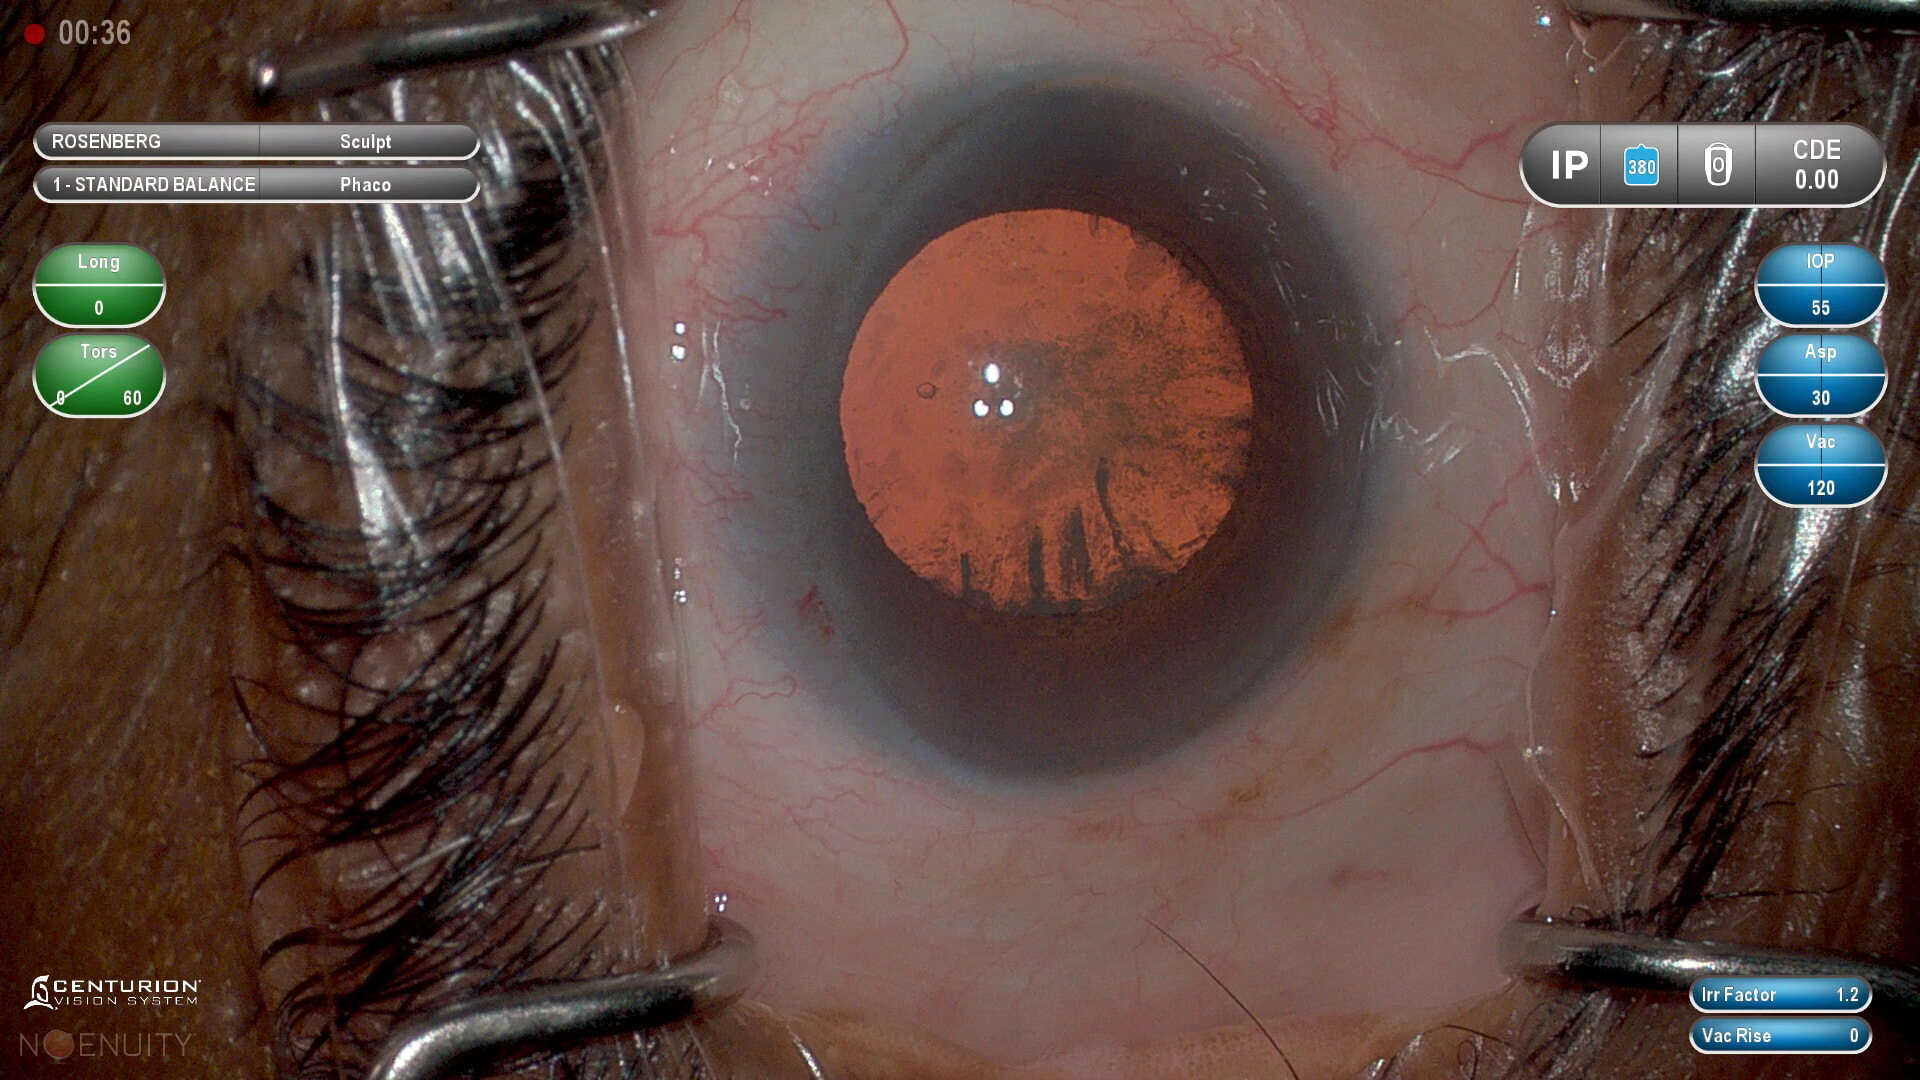iris: (771, 92, 1376, 780)
pupil: (837, 207, 1262, 609)
